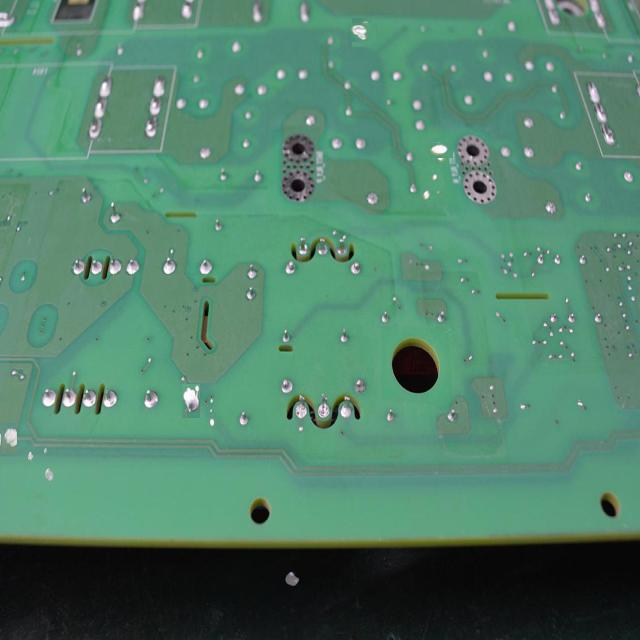spillover: (350, 20, 375, 45), (182, 384, 200, 418), (0, 422, 17, 454), (431, 140, 451, 161)
